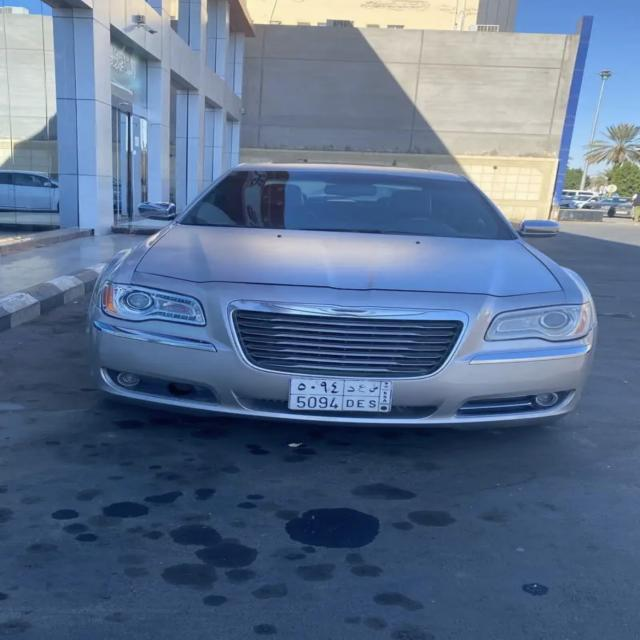license_plate: (288, 376, 394, 417)
